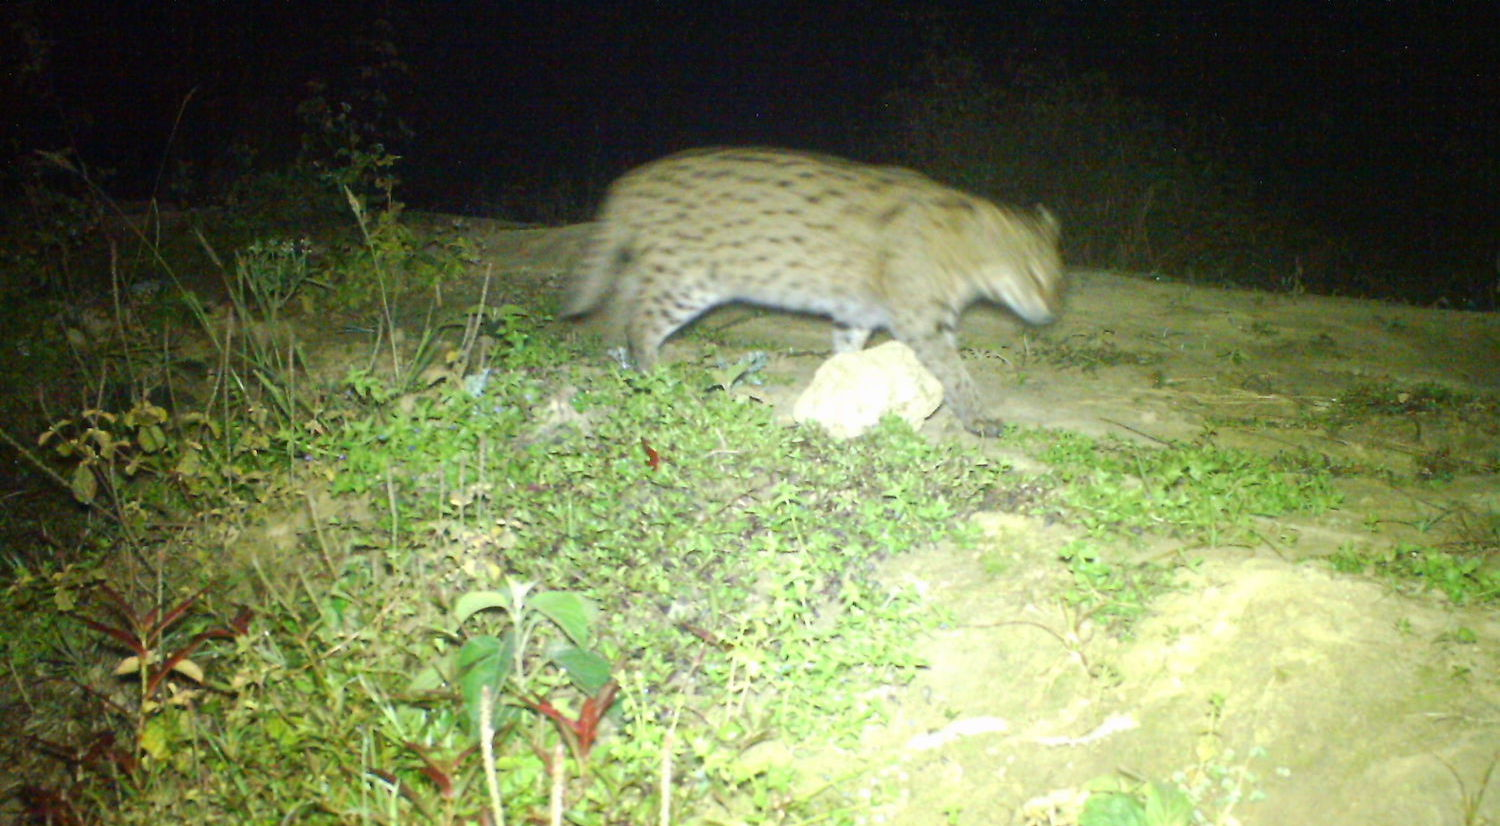cat: (520, 131, 1093, 457)
